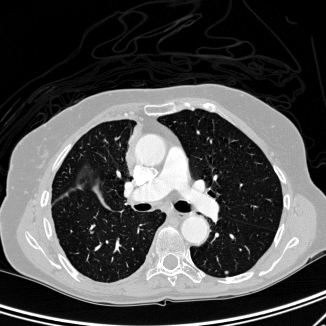nodule: (224, 270, 228, 274)
